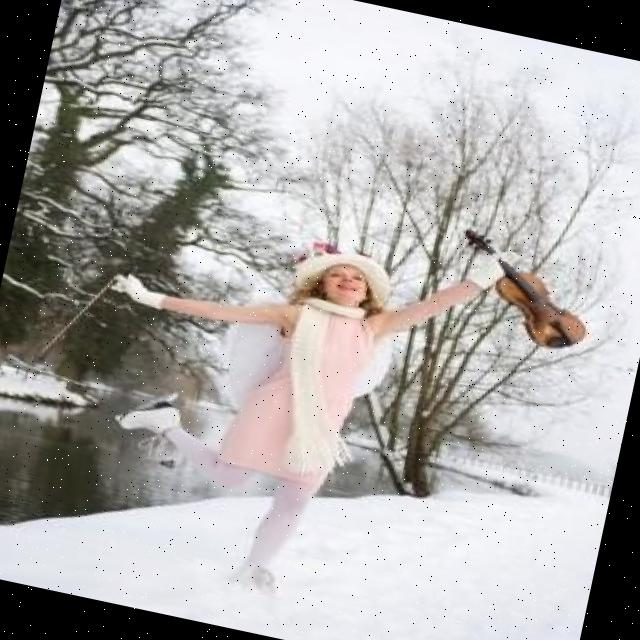violin: (440, 227, 603, 356)
